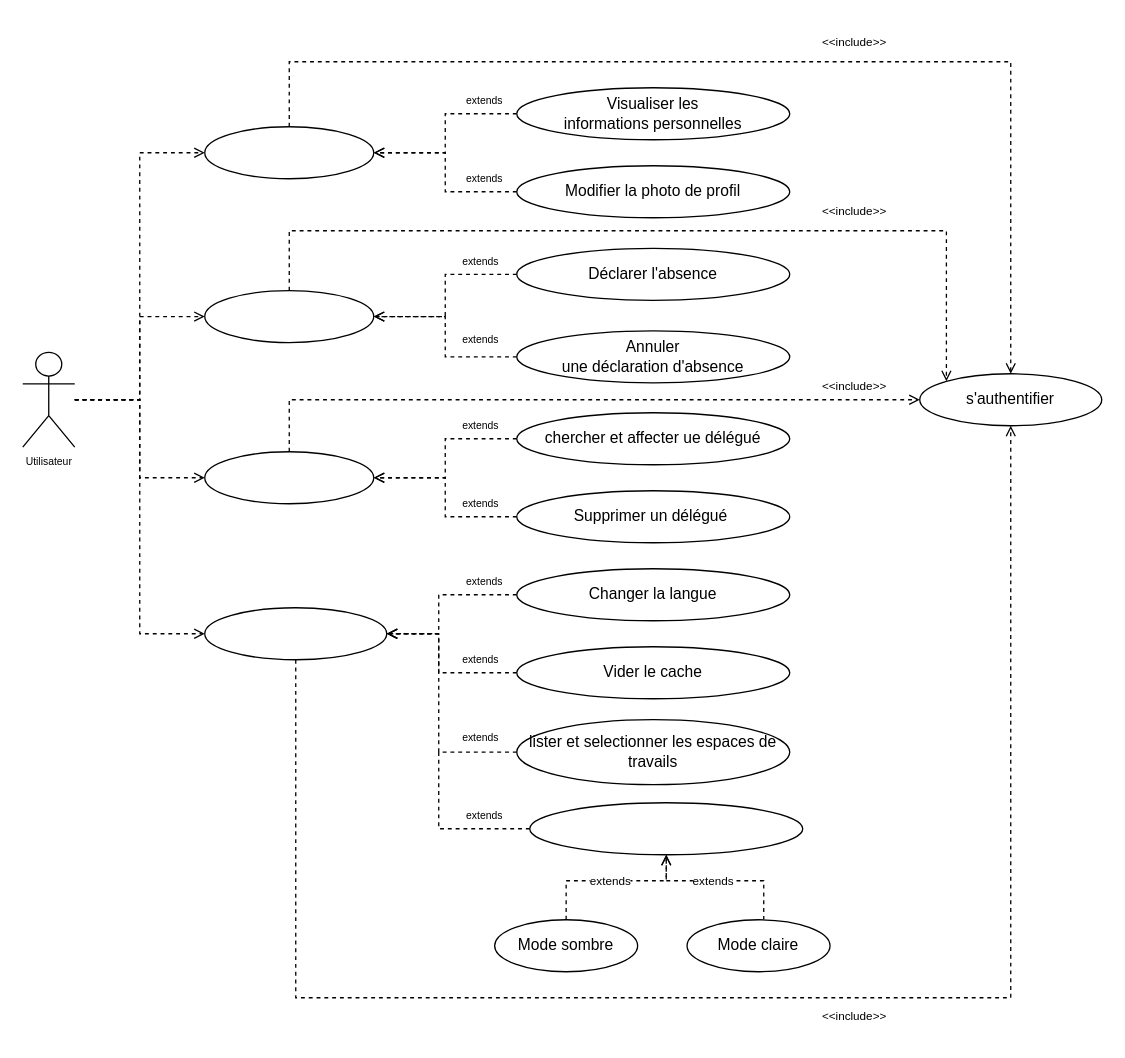
The diagram is 1125 pixels wide and 1058 high, and some of its shapes have lost their labels. Each missing label, with the centre of its shape:
Gérer absence: point 288,316
Gérer délégation: point 288,477
Gérer le profile: point 288,152
Gérer les préférences d'aﬀichage: point 665,828
Paramétrer l'application: point 295,633
